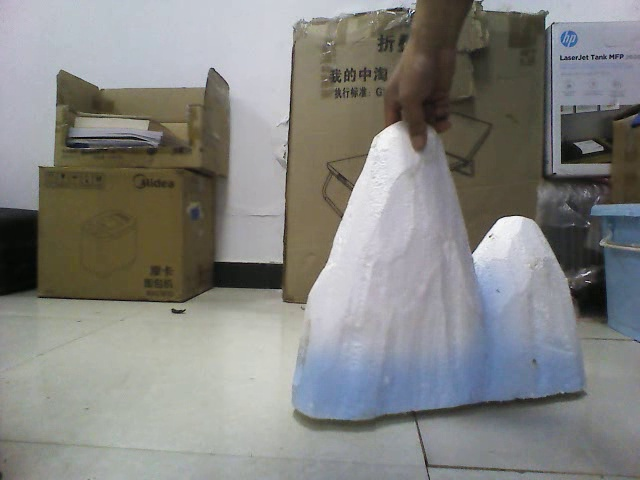iceberg: (287, 113, 594, 424)
